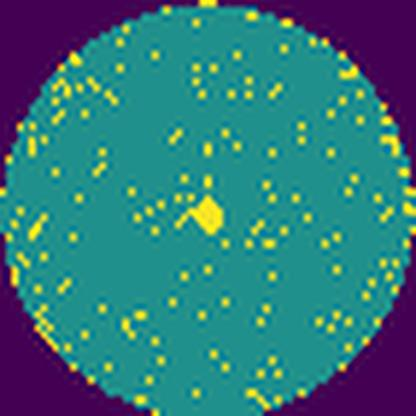Center: (188, 194, 226, 237)
